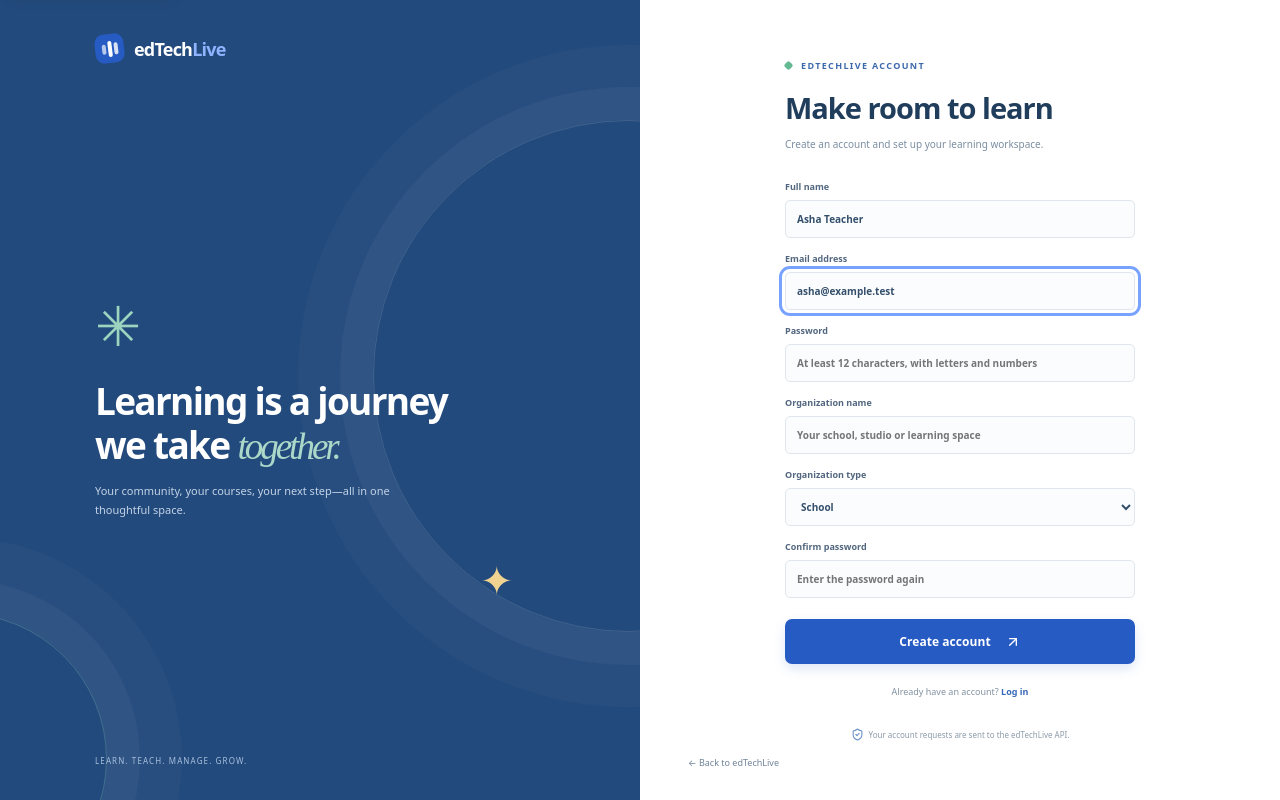
account verification and sign-in › shows a local verification action after account creation and returns to login after confirmation
Earlier steps of the test are not shown.
Step 1. Type "CorrectHorseBattery1" into the password field labelled "Password" → (960, 363), box [785,344,1135,382]
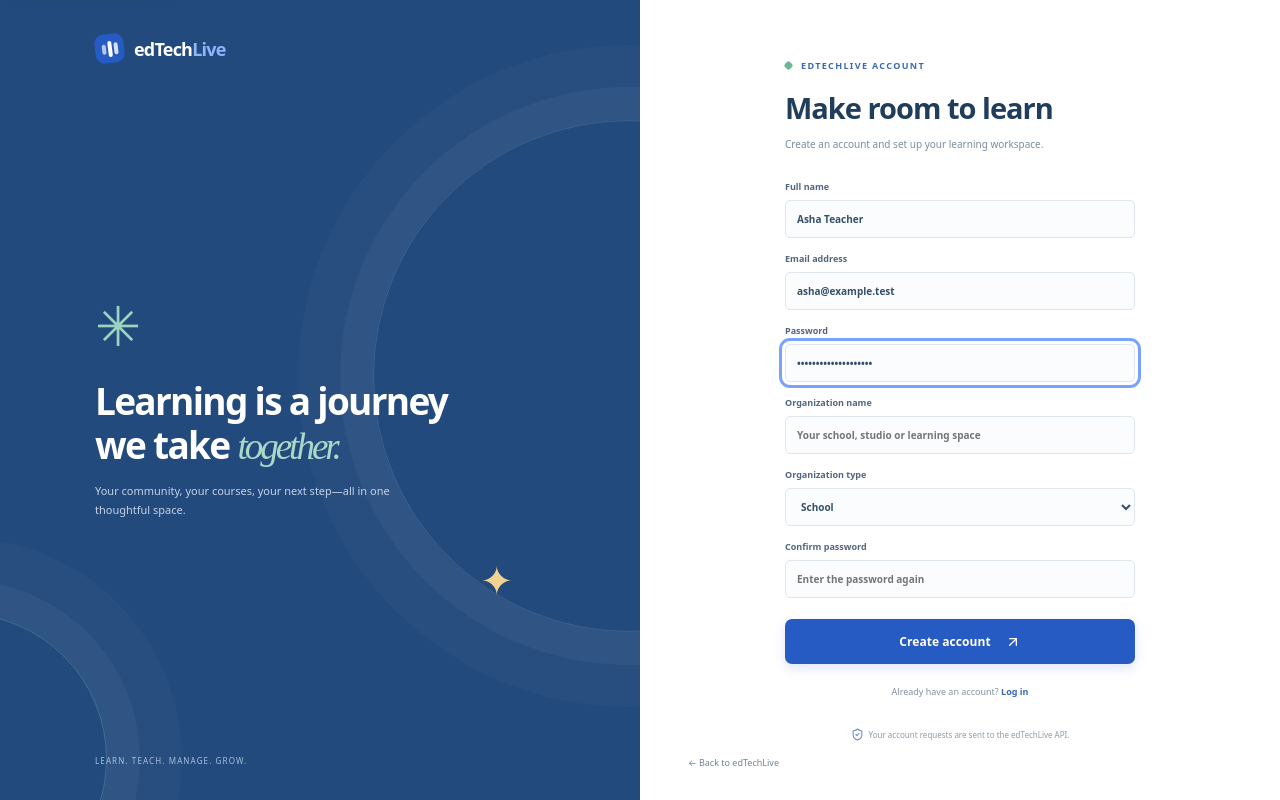
Step 2. Type "Asha Learning" into the field labelled "Organization name" → (960, 435), box [785,416,1135,454]
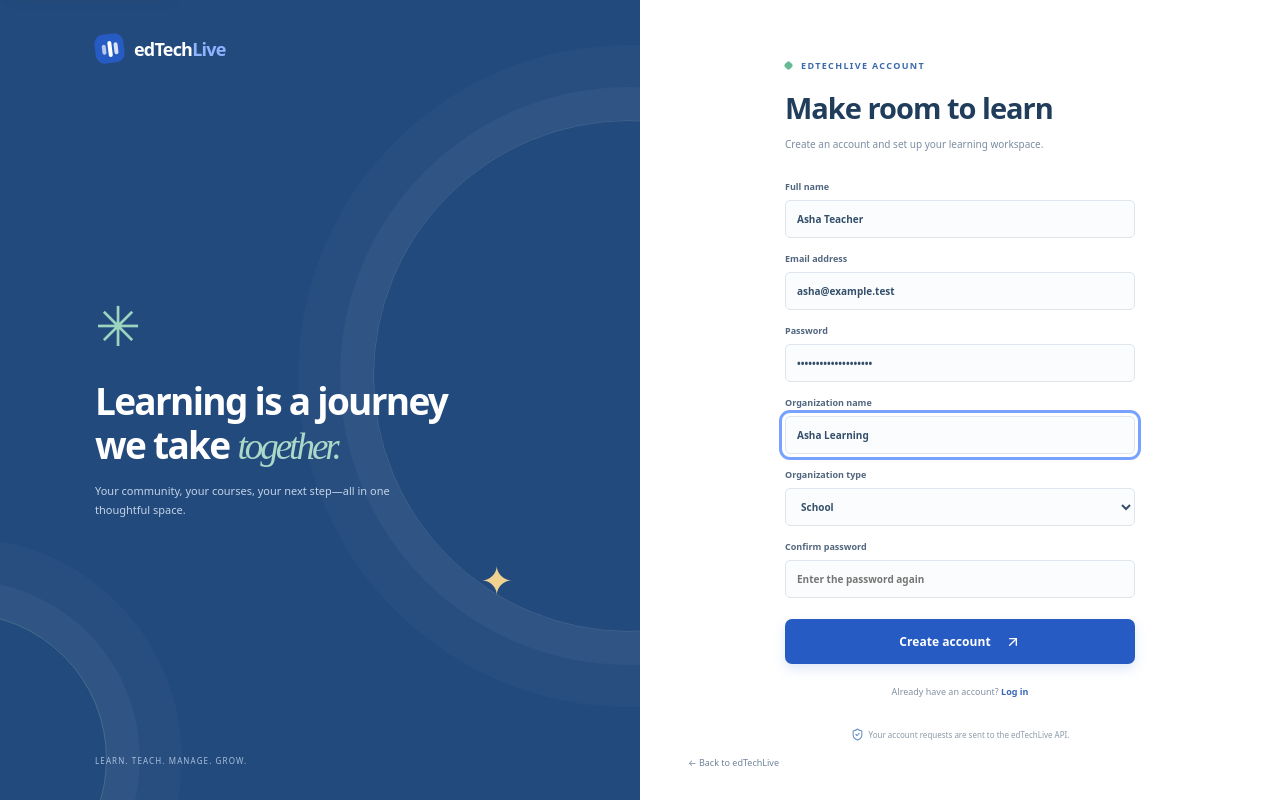
Step 3. Type "CorrectHorseBattery1" into the password field labelled "Confirm password" → (960, 579), box [785,560,1135,598]
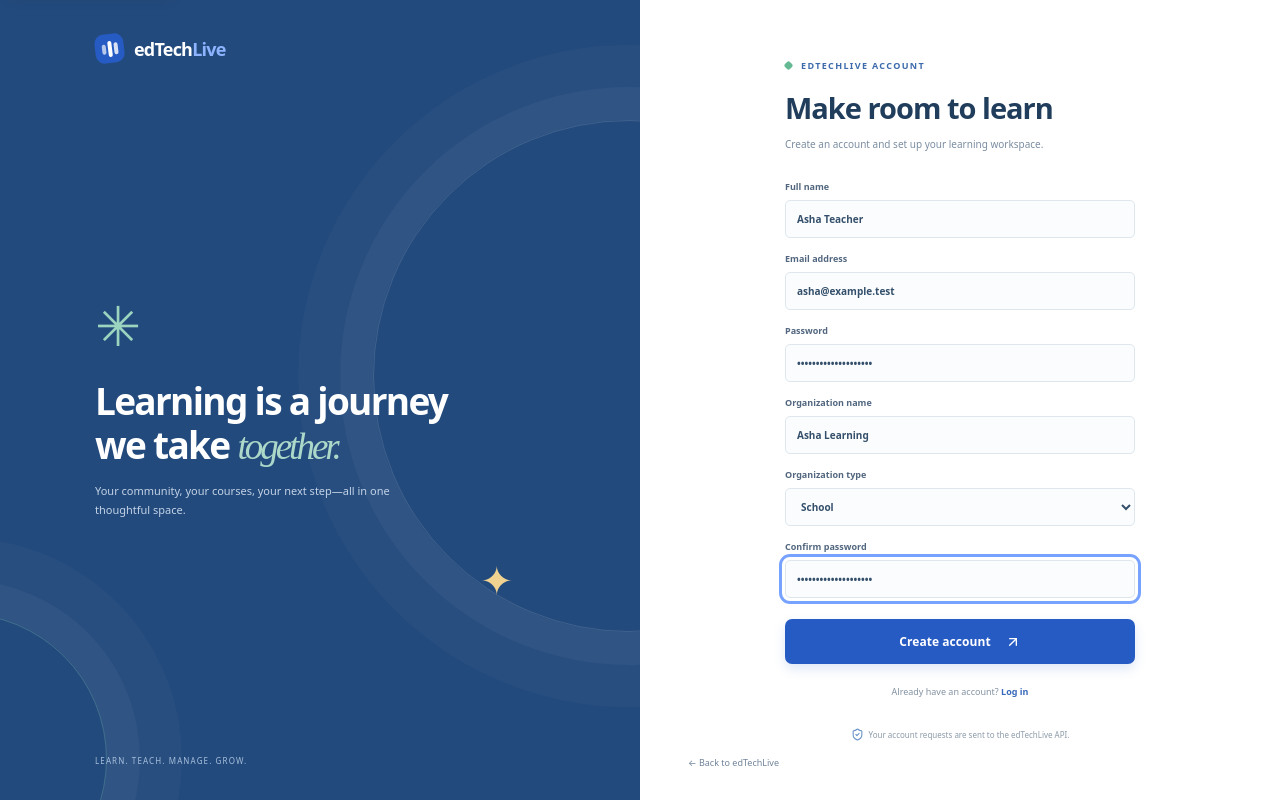
Step 4. Click the button "Create account" → (960, 642), box [785,619,1135,664]
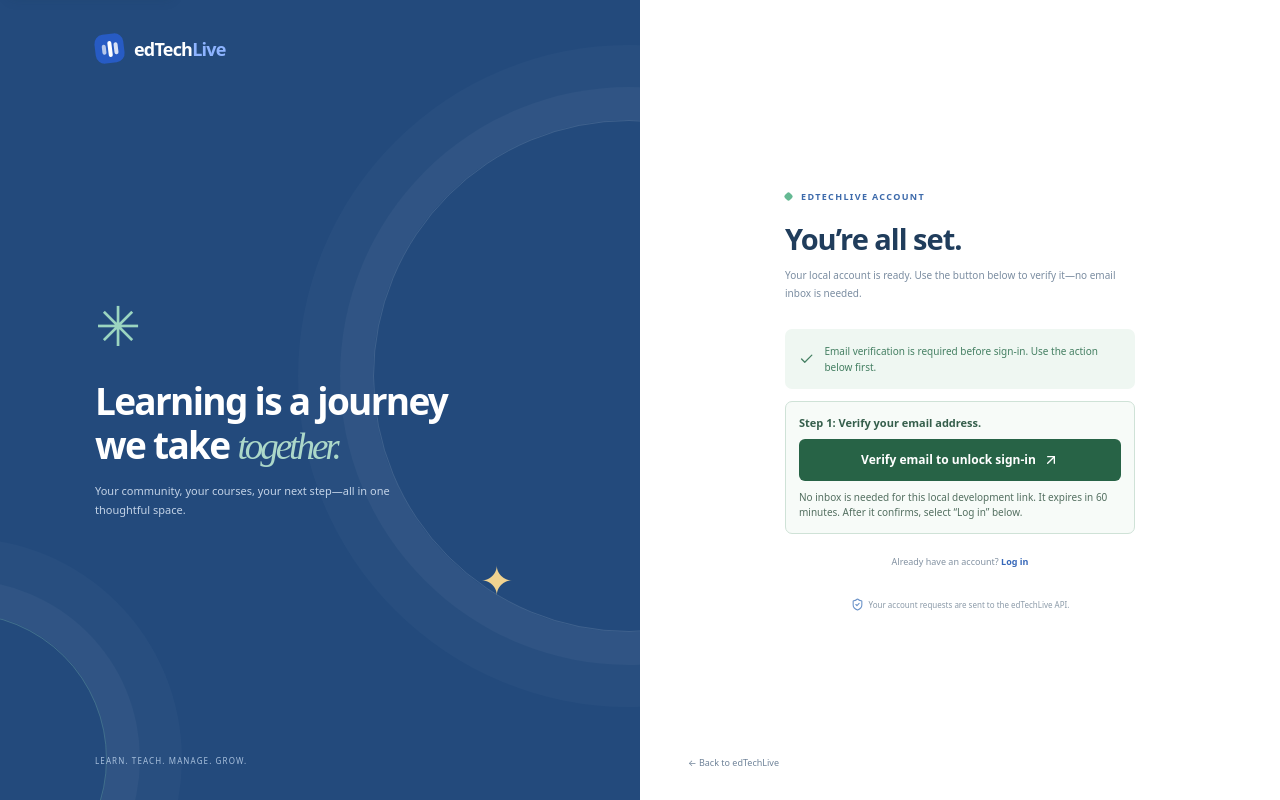
Expected: the text "Your local account is ready" is shown, [785,268,1116,300]
Expected: the text "No inbox is needed" is shown, [799,490,1107,518]
Step 5. Click the button "Verify email to unlock sign-in" → (960, 460), box [799,438,1121,480]
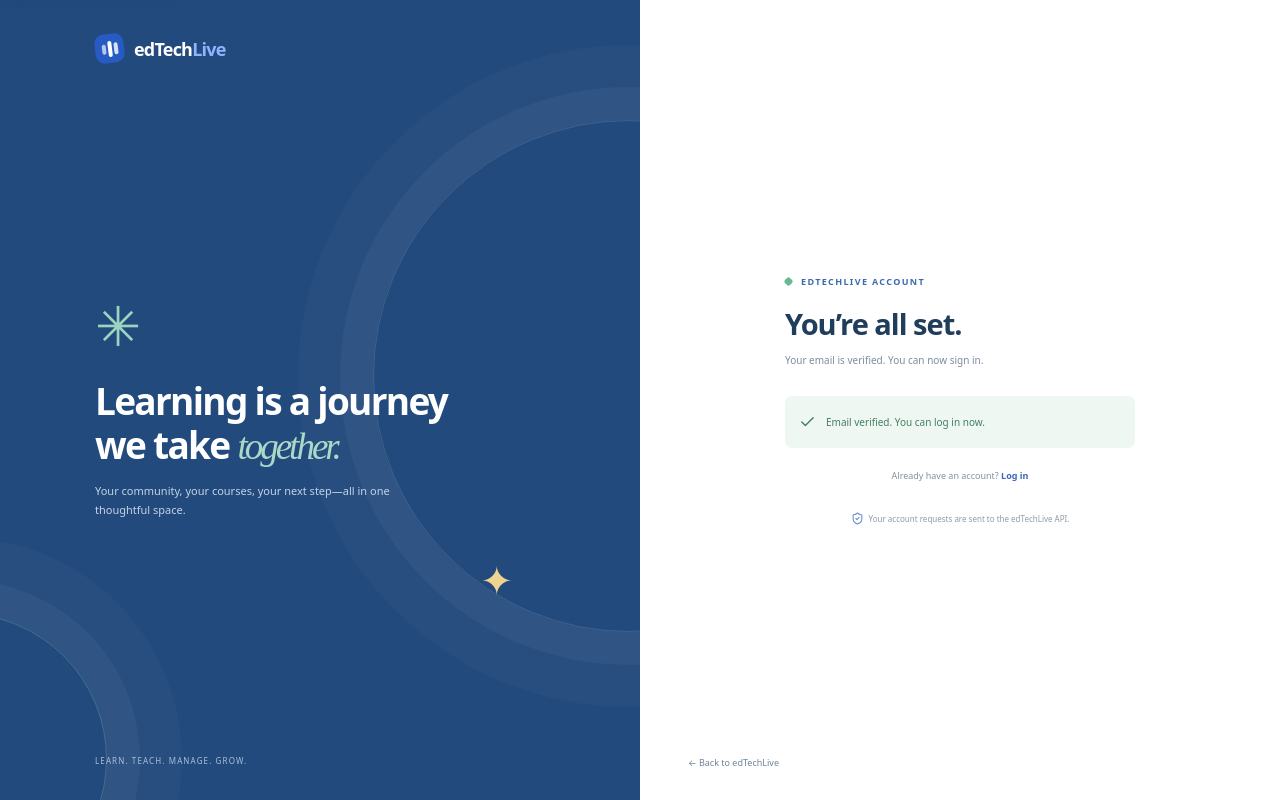
Expected: the message reads "Email verified. You can log in now.", [826,415,985,429]
Step 6. Click the link "Log in" → (1015, 476), box [1001,469,1028,482]
(page scrolled)
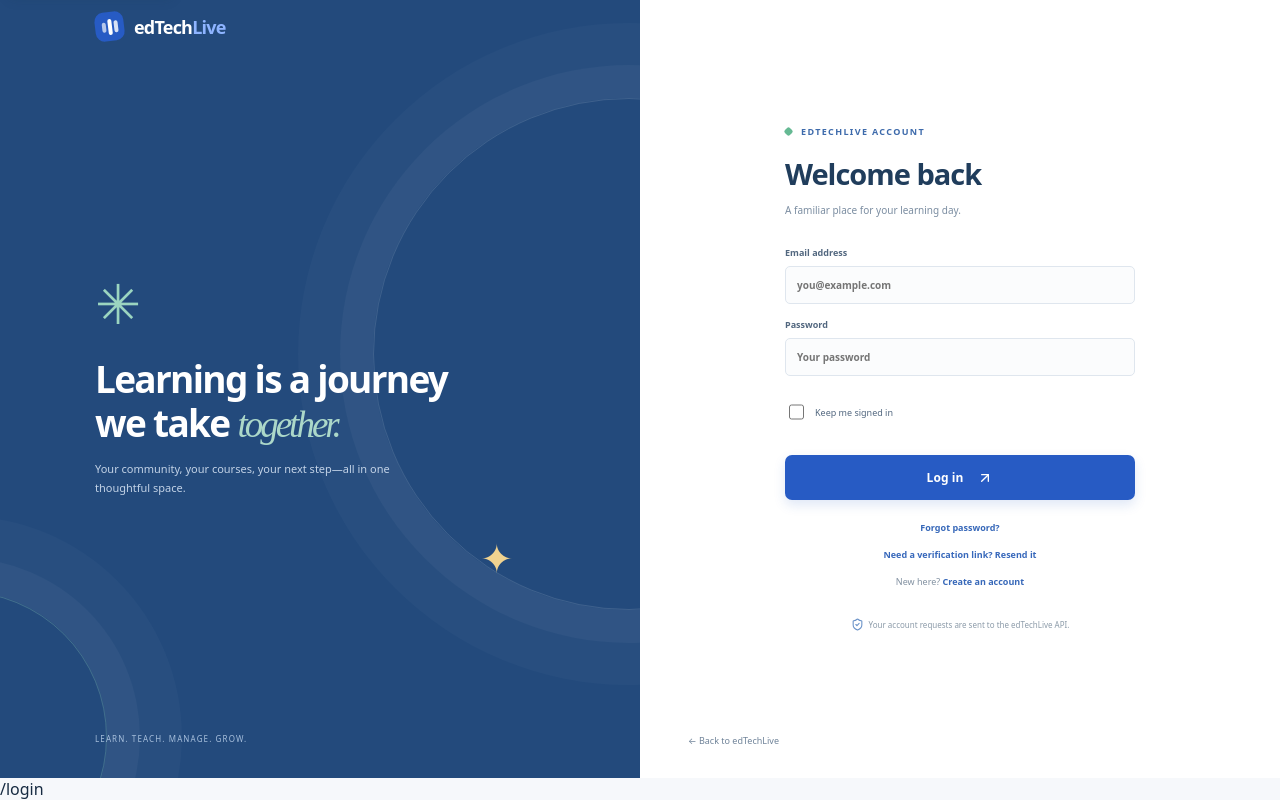
Expected: the heading "Welcome back" is shown, [785,154,981,193]
Expected: the text with test id "current-route" reads "/login", [0,778,44,799]
